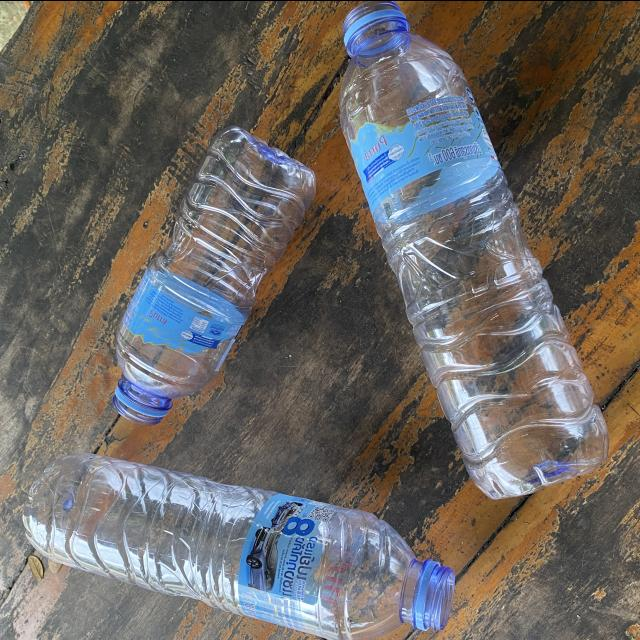plastik: (340, 0, 608, 498), (24, 453, 454, 640), (112, 126, 315, 424)
